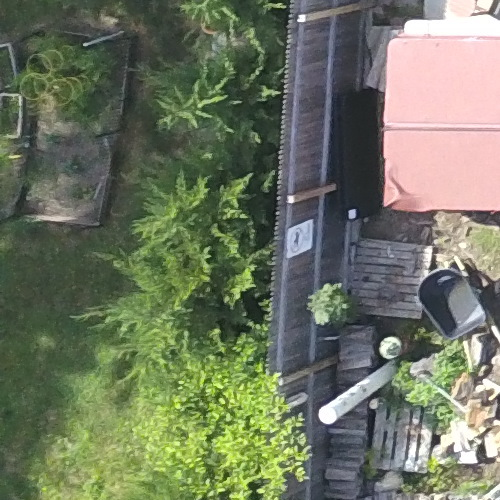clutter: (413, 322, 500, 481)
container: (409, 248, 493, 348)
